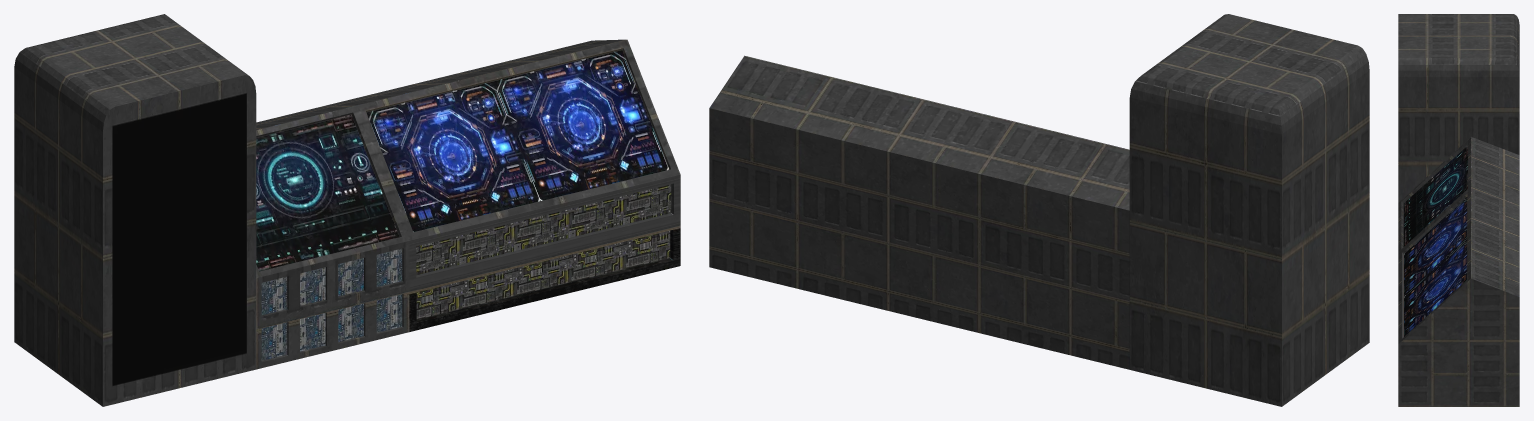
File: sci-fi_supercomputer.glb
3 views of the same model, side by side, from view 1: azimuth 30°, elevation 25°; view 2: azimuth 150°, elevation 25°; view 3: azimuth 270°, elevation 25° (orthographic). The views are drawn at different scales.
Parts seen in each view (by area): view 1: Supercomputer by JJ.001_Computers by JJ_gameasset_Mat_1_0, Supercomputer by JJ.001_Supercomputer by JJ_gameasset_Mat_1_; view 2: Supercomputer by JJ.001_Computers by JJ_gameasset_Mat_1_0, Supercomputer by JJ.001_Supercomputer by JJ_gameasset_Mat_1_; view 3: Supercomputer by JJ.001_Computers by JJ_gameasset_Mat_1_0, Supercomputer by JJ.001_Supercomputer by JJ_gameasset_Mat_1_.
Boxes of the visible parts, x1=… form: Supercomputer by JJ.001_Computers by JJ_gameasset_Mat_1_0: x1=256, y1=39, x2=680, y2=369; Supercomputer by JJ.001_Supercomputer by JJ_gameasset_Mat_1_: x1=14, y1=14, x2=256, y2=406; Supercomputer by JJ.001_Computers by JJ_gameasset_Mat_1_0: x1=709, y1=55, x2=1129, y2=369; Supercomputer by JJ.001_Supercomputer by JJ_gameasset_Mat_1_: x1=1129, y1=14, x2=1369, y2=406; Supercomputer by JJ.001_Computers by JJ_gameasset_Mat_1_0: x1=1398, y1=137, x2=1519, y2=406; Supercomputer by JJ.001_Supercomputer by JJ_gameasset_Mat_1_: x1=1398, y1=14, x2=1519, y2=202.
Bounding box in the file's own units: 7.53 × 3.7 × 2.
2 materials, 2 textured.
